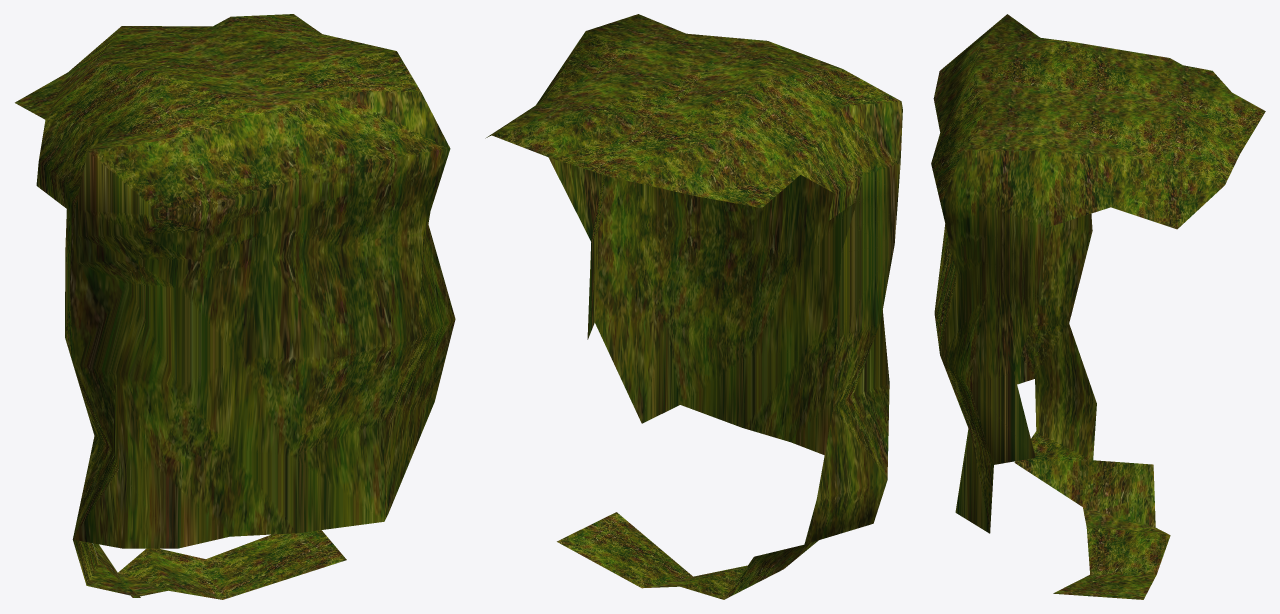
File: TROLLHOLE02_RM_PSURF100.fbx
The picture shows the model from 3 angles, left to right: view 1: azimuth 30°, elevation 25°; view 2: azimuth 150°, elevation 25°; view 3: azimuth 270°, elevation 25°; orthographic projection. The views are drawn at different scales.
Parts seen in each view (by area): view 1: TROLLHOLE02_RM_PSURF100; view 2: TROLLHOLE02_RM_PSURF100; view 3: TROLLHOLE02_RM_PSURF100.
Part boxes in pixels (<box>): TROLLHOLE02_RM_PSURF100: <box>15,14,455,599</box>; TROLLHOLE02_RM_PSURF100: <box>485,14,902,599</box>; TROLLHOLE02_RM_PSURF100: <box>931,14,1265,599</box>.
Bounding box in the file's own units: 80647 × 113998 × 68877.
Materials: 1 (1 with a texture image).
